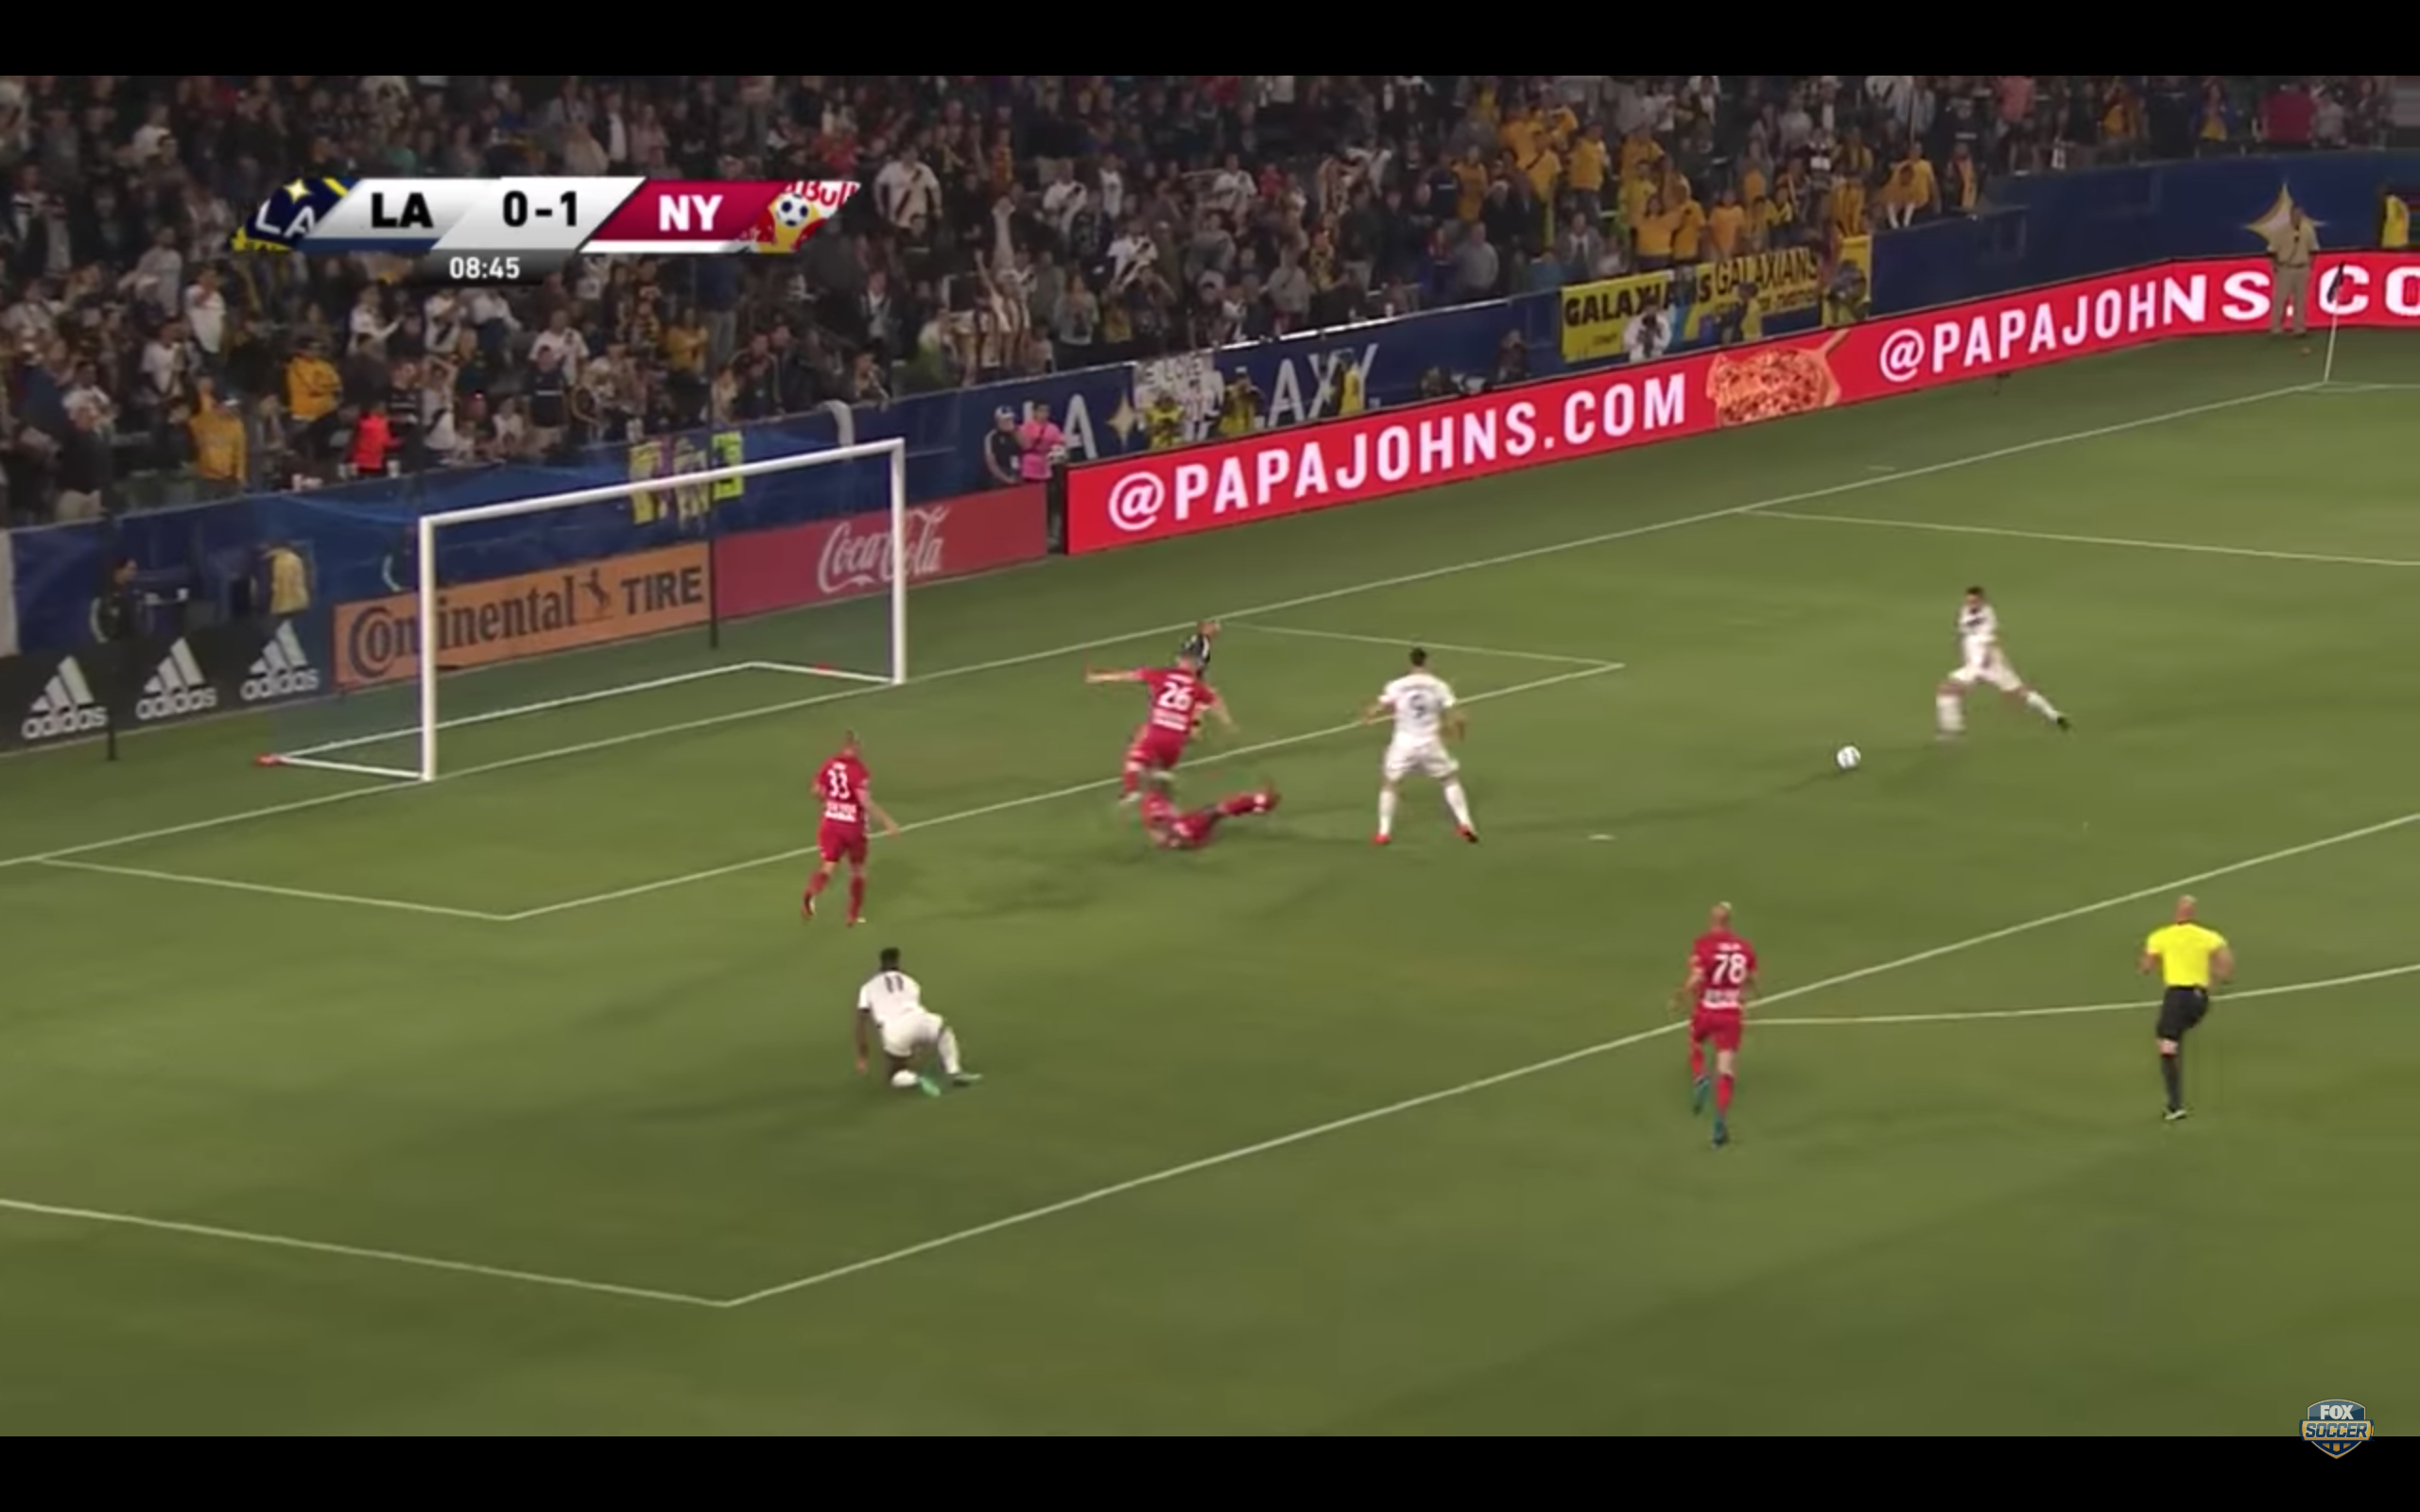referee: (2131, 888, 2238, 1136)
soccer player: (1909, 579, 2084, 753), (1357, 643, 1496, 855), (1673, 888, 1772, 1149), (848, 939, 991, 1110), (1078, 663, 1234, 804), (802, 720, 894, 935), (1116, 786, 1274, 863), (1175, 597, 1239, 671)
soccerball: (1829, 730, 1867, 781)
